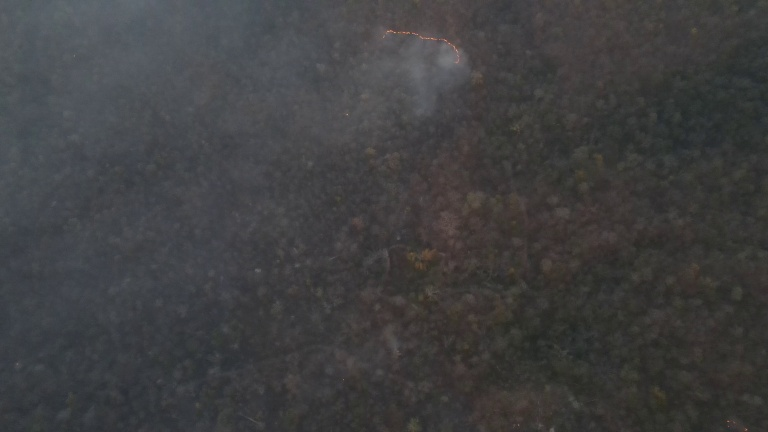fire: (380, 27, 462, 71)
smoke: (223, 1, 475, 114)
